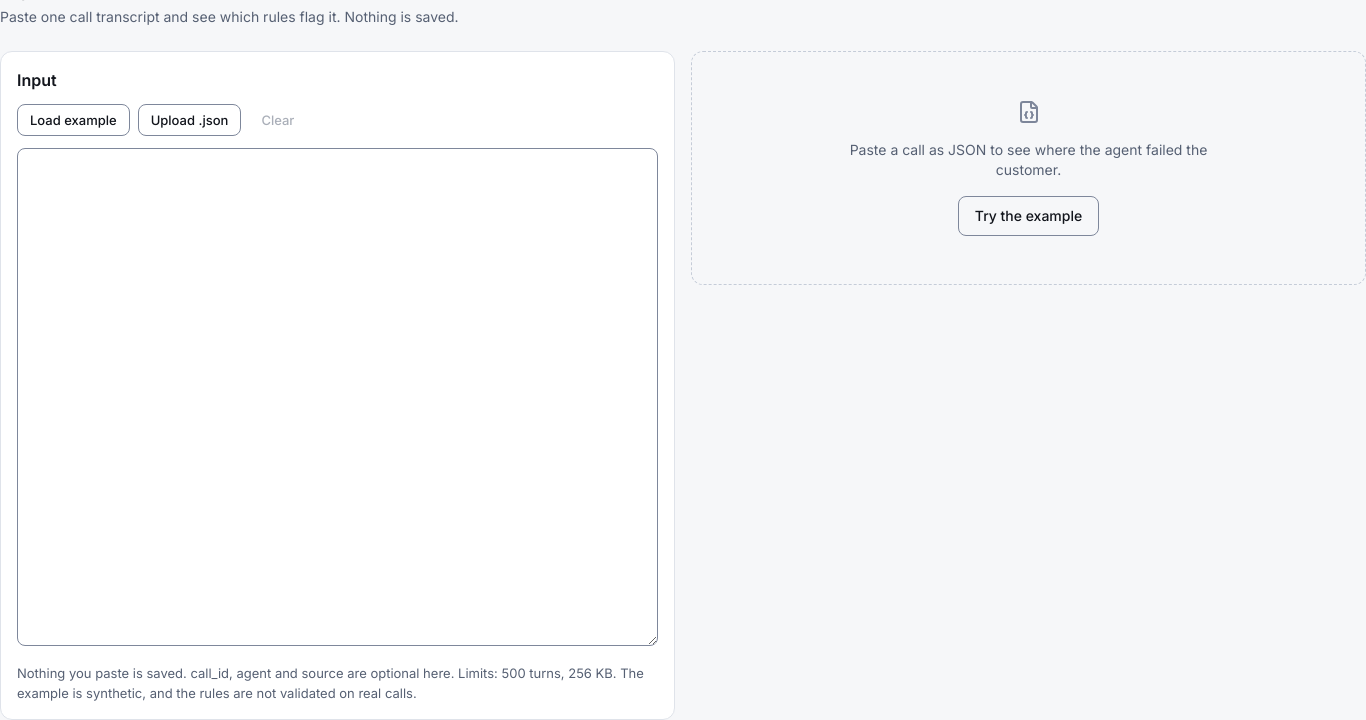
Scenario: workbench page › analyses the example and lists its findings
Click the button "Load example": [73, 120] box [17,104,130,136]
(page scrolled)
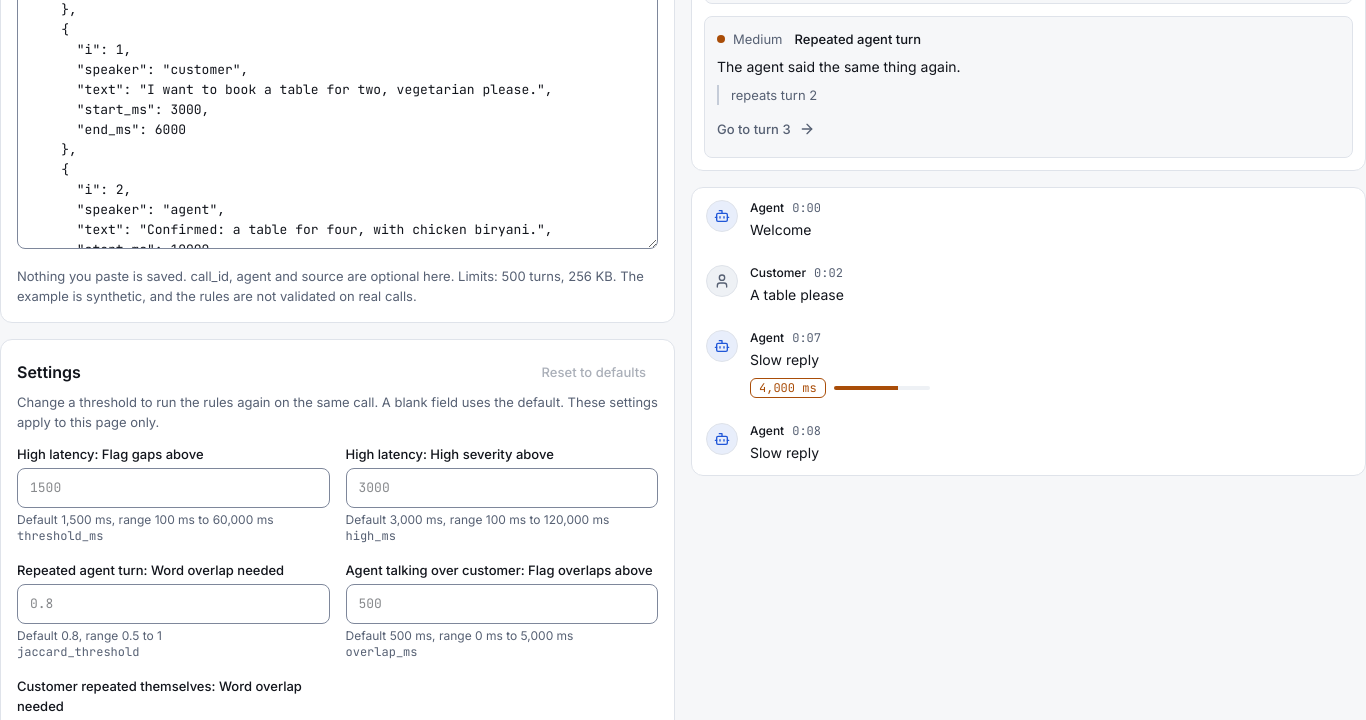
Check: the text "Slow reply" below "0:07" is shown, box [750,351,819,368]
